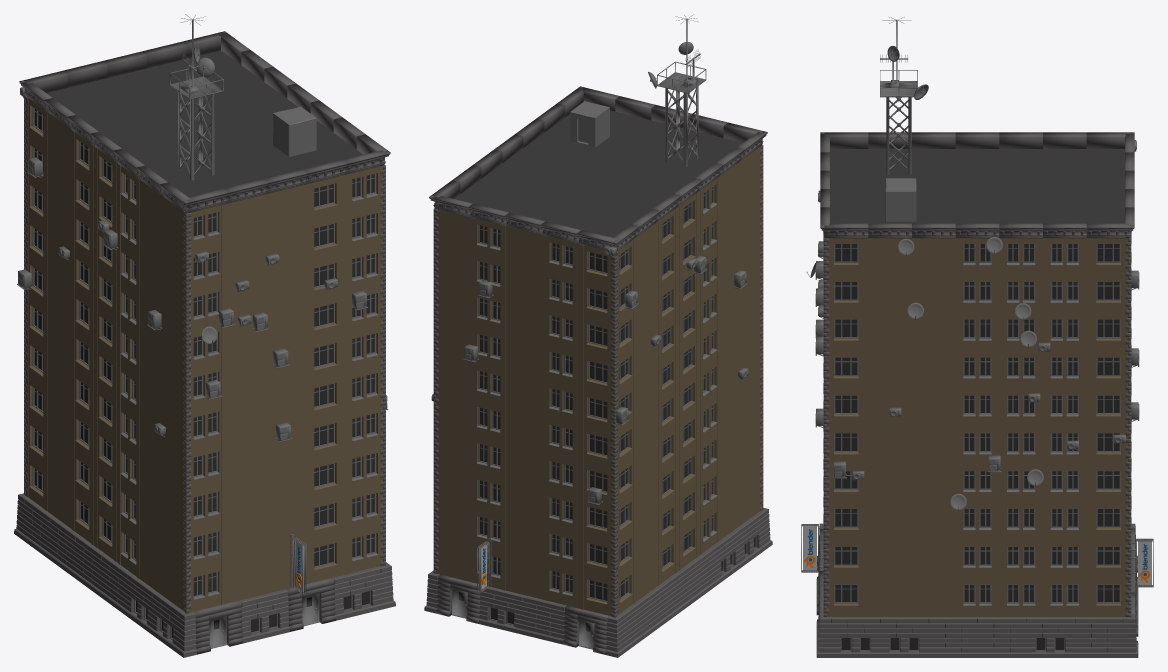
File: buildify_Red1.1.fbx
3 views of the same model, side by side, from view 1: azimuth 30°, elevation 25°; view 2: azimuth 150°, elevation 25°; view 3: azimuth 270°, elevation 25° (orthographic). The views are drawn at different scales.
Visible parts, largest first — view 1: building_base; view 2: building_base; view 3: building_base.
Part boxes in pixels (<box>): building_base: <box>14,14,395,657</box>; building_base: <box>424,14,772,657</box>; building_base: <box>801,17,1153,657</box>.
Size of the model in its own units: 1748 by 4468 by 2530.
